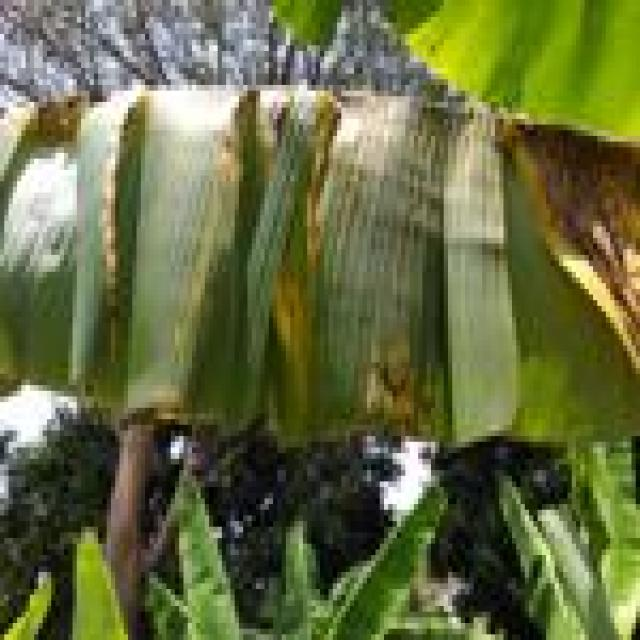Early_rust: (34, 62, 640, 482)
